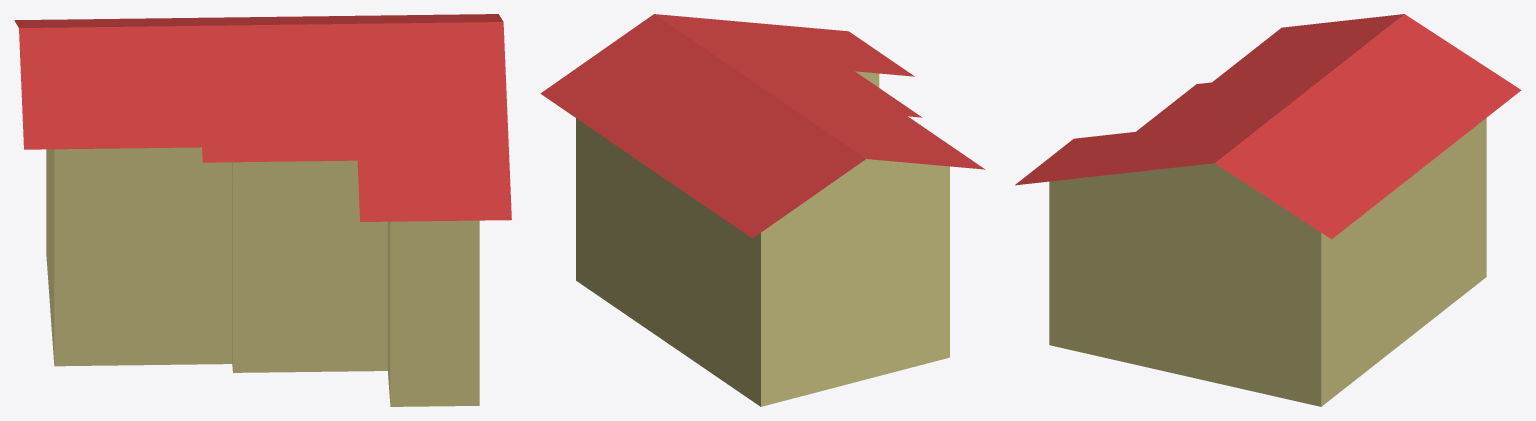
3 renders of one model, left to right at view 1: azimuth 30°, elevation 25°; view 2: azimuth 150°, elevation 25°; view 3: azimuth 270°, elevation 25°, orthographic. The views are drawn at different scales.
Bounding box in the file's own units: 18.67 × 19.65 × 9.91.
